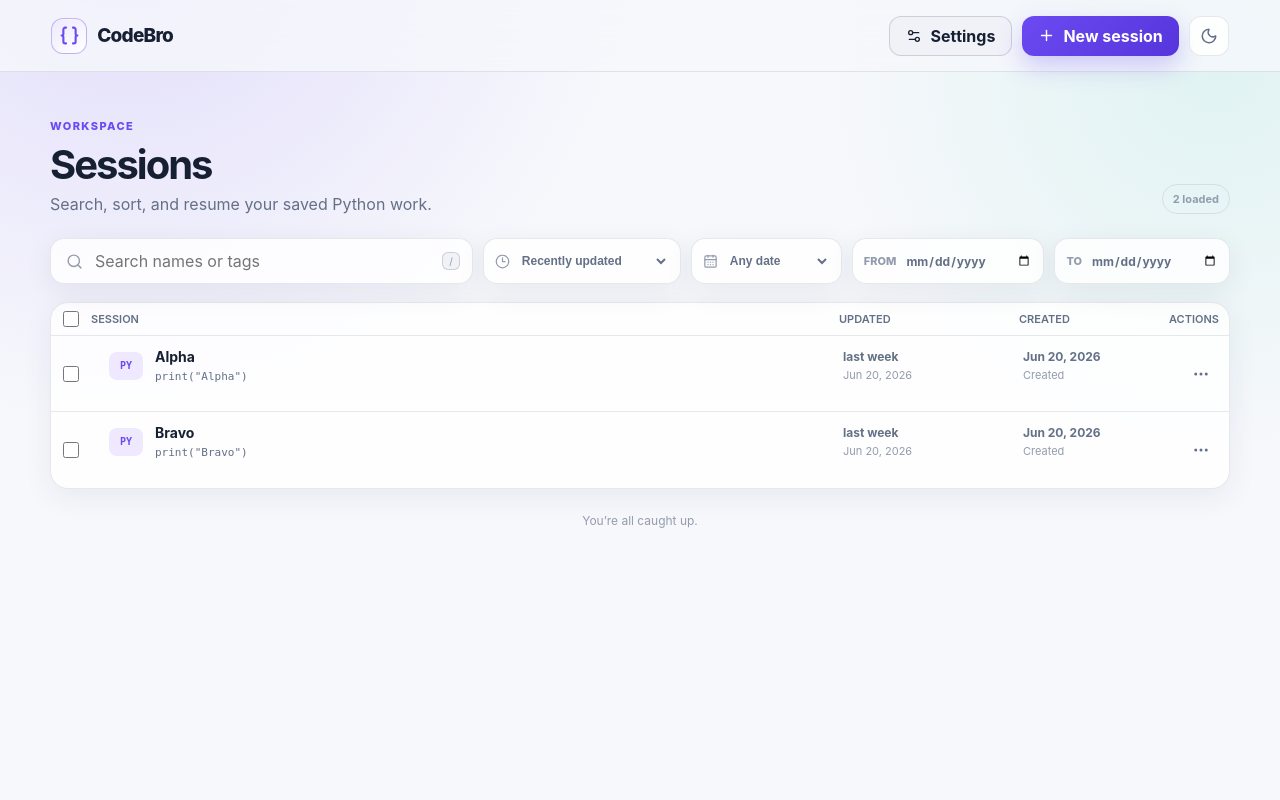
SessionLibrary data operations › properly handles checkbox selection with multiple sessions
Expected: the text "Alpha" is shown, [155,348,195,365]
Expected: the checkbox named "Select all sessions" is not checked, [63,311,79,327]
Click the checkbox named "Select session Alpha".
click(71, 374)  # box [63,366,79,382]
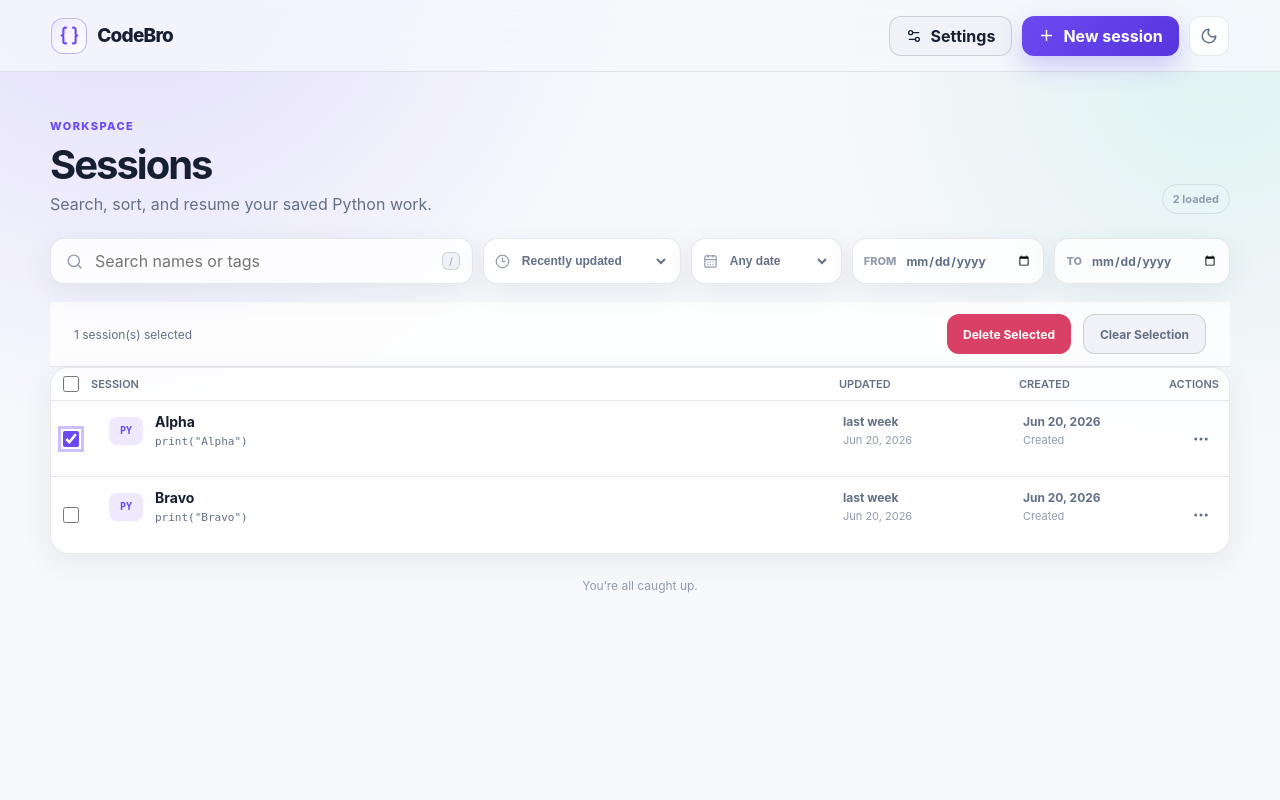
Expected: the checkbox named "Select all sessions" is not checked, [63,376,79,392]
Click the checkbox named "Select session Bravo".
click(71, 515)  # box [63,507,79,523]
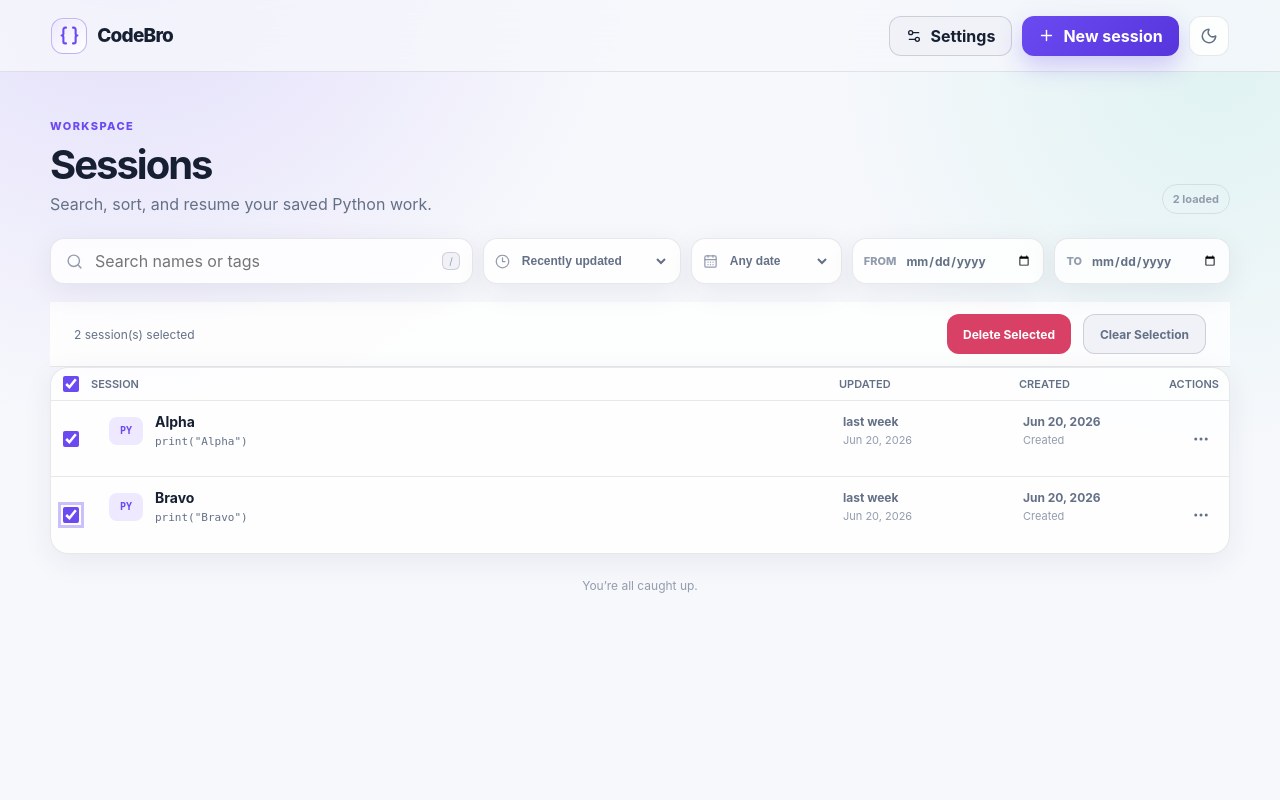
Now the checkbox named "Select all sessions" is checked, box [63,376,79,392]
Click the checkbox named "Select session Alpha".
click(71, 438)  # box [63,430,79,446]
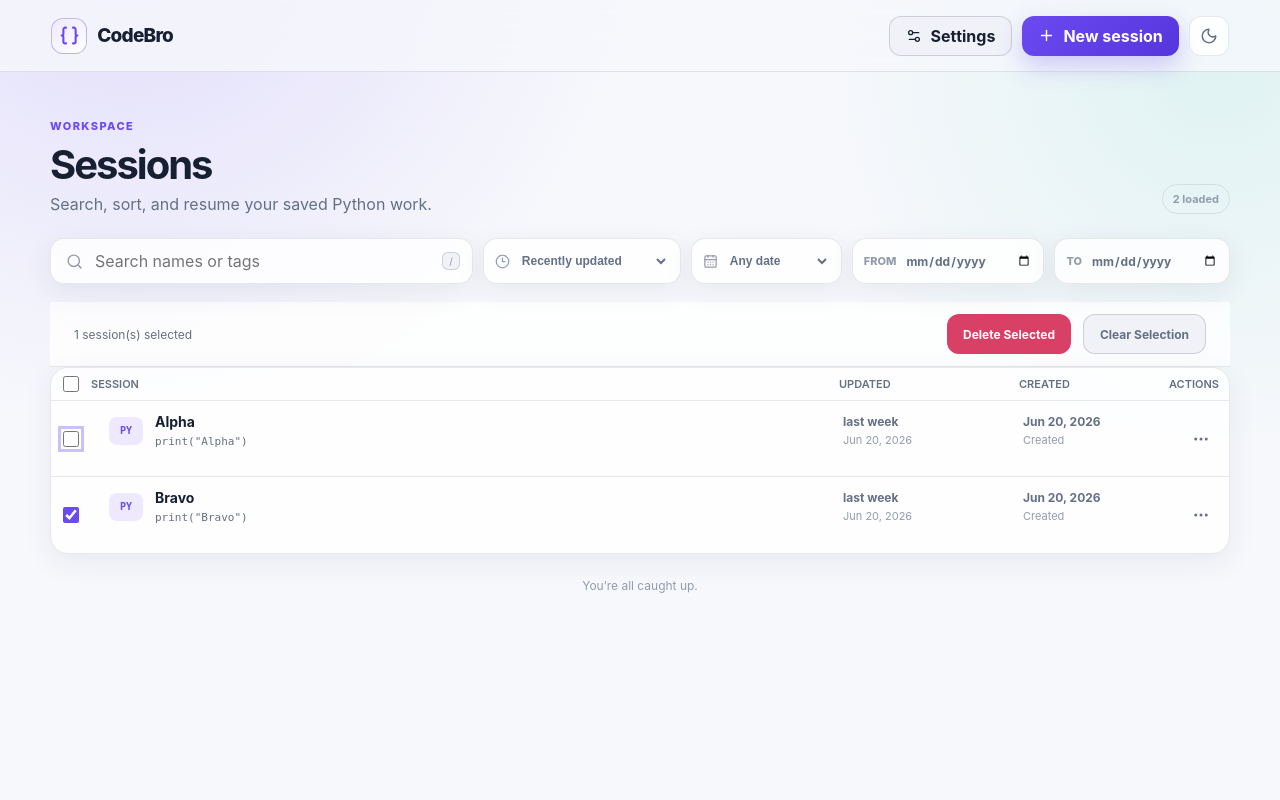
Now the checkbox named "Select all sessions" is not checked, box [63,376,79,392]
